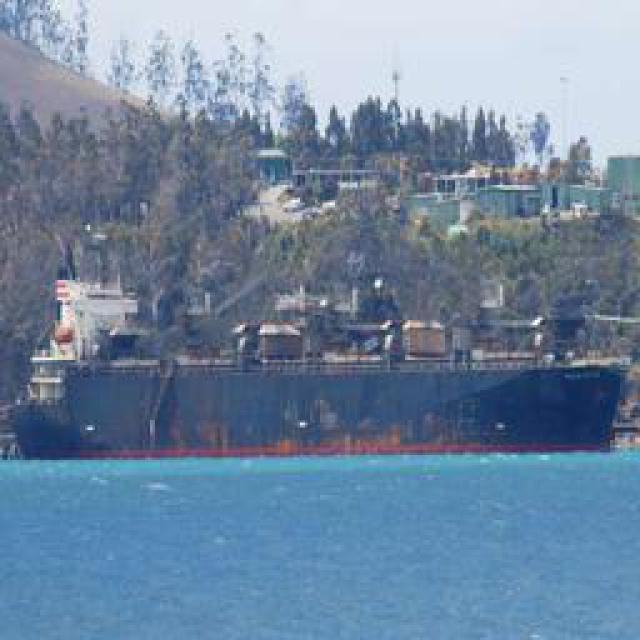Ship: (13, 223, 630, 465)
